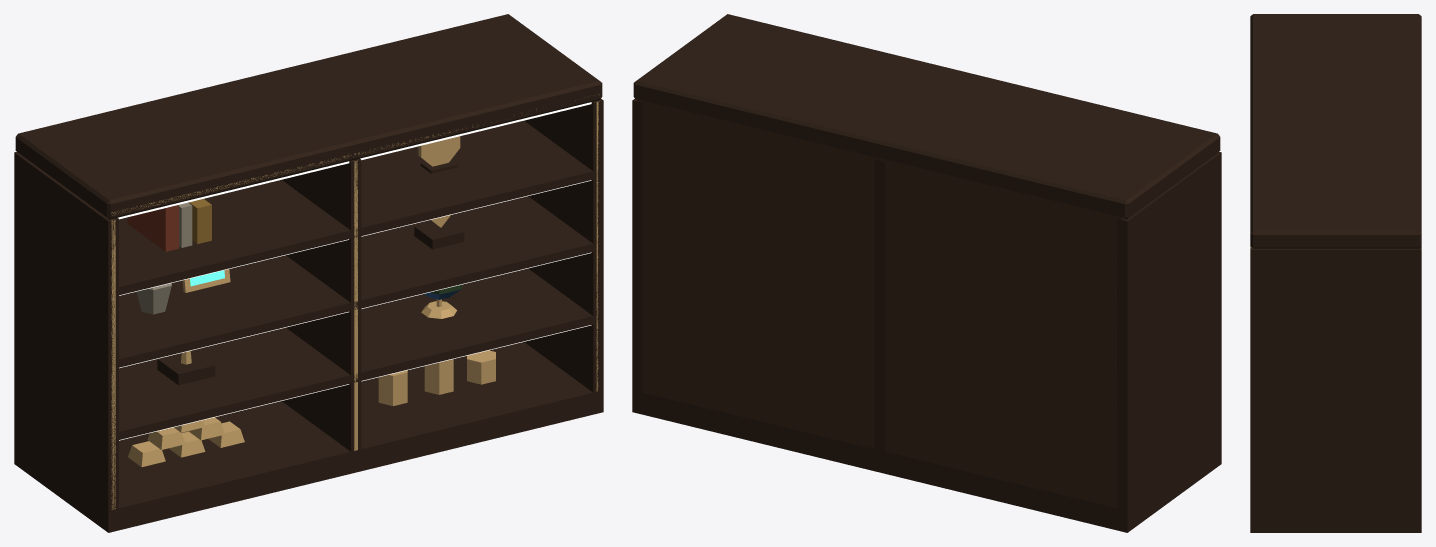
The picture shows the model from 3 angles, left to right: view 1: azimuth 30°, elevation 25°; view 2: azimuth 150°, elevation 25°; view 3: azimuth 270°, elevation 25°; orthographic projection. The views are drawn at different scales.
Parts seen in each view (by area): view 1: furniture_17_shelf_epic_display; view 2: furniture_17_shelf_epic_display; view 3: furniture_17_shelf_epic_display.
Boxes of the visible parts, x1,y1,x2,y2 form: furniture_17_shelf_epic_display: (14, 14, 603, 532); furniture_17_shelf_epic_display: (632, 14, 1221, 532); furniture_17_shelf_epic_display: (1250, 14, 1421, 532).
Size of the model in its own units: 3.76 by 2.4 by 1.24.
